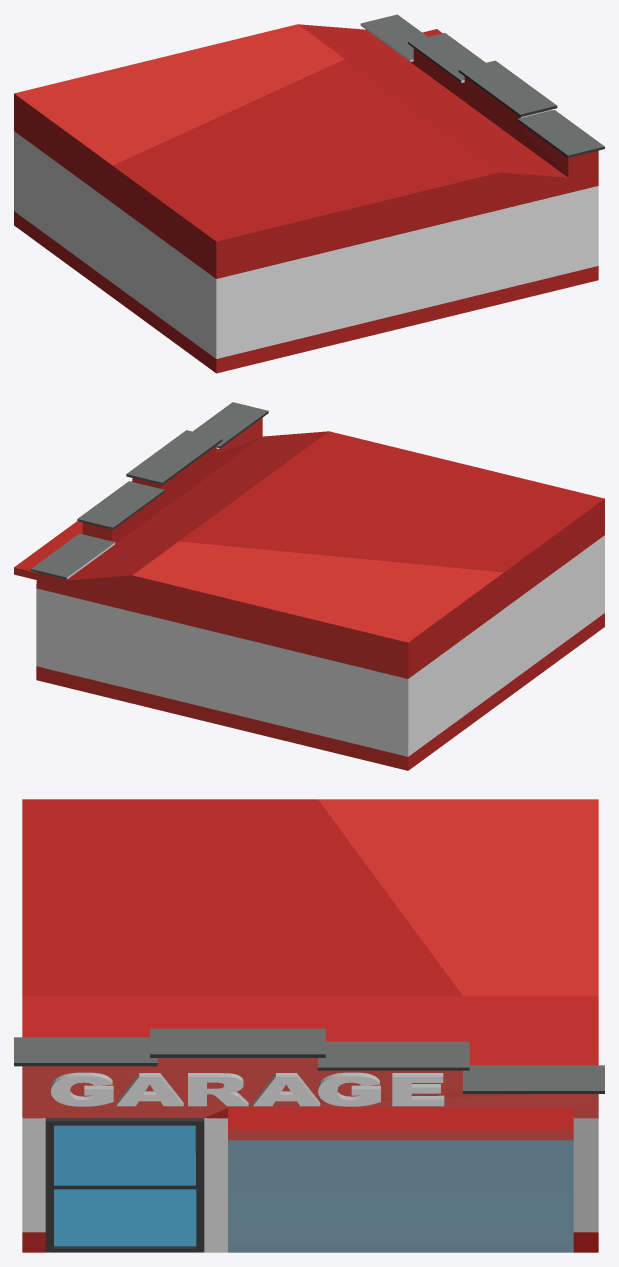
The model's file is Gragage_lv1_v2.FBX.
3 views of the same model, one above another, from view 1: azimuth 30°, elevation 25°; view 2: azimuth 150°, elevation 25°; view 3: azimuth 270°, elevation 25° (orthographic). The views are drawn at different scales.
Visible parts, largest first — view 1: Lv1; view 2: Lv1; view 3: Lv1.
Boxes of the visible parts, x1=… form: Lv1: x1=14, y1=14, x2=604, y2=373; Lv1: x1=14, y1=402, x2=604, y2=770; Lv1: x1=14, y1=799, x2=604, y2=1252.
Bounding box in the file's own units: 14 × 4.55 × 12.14.
